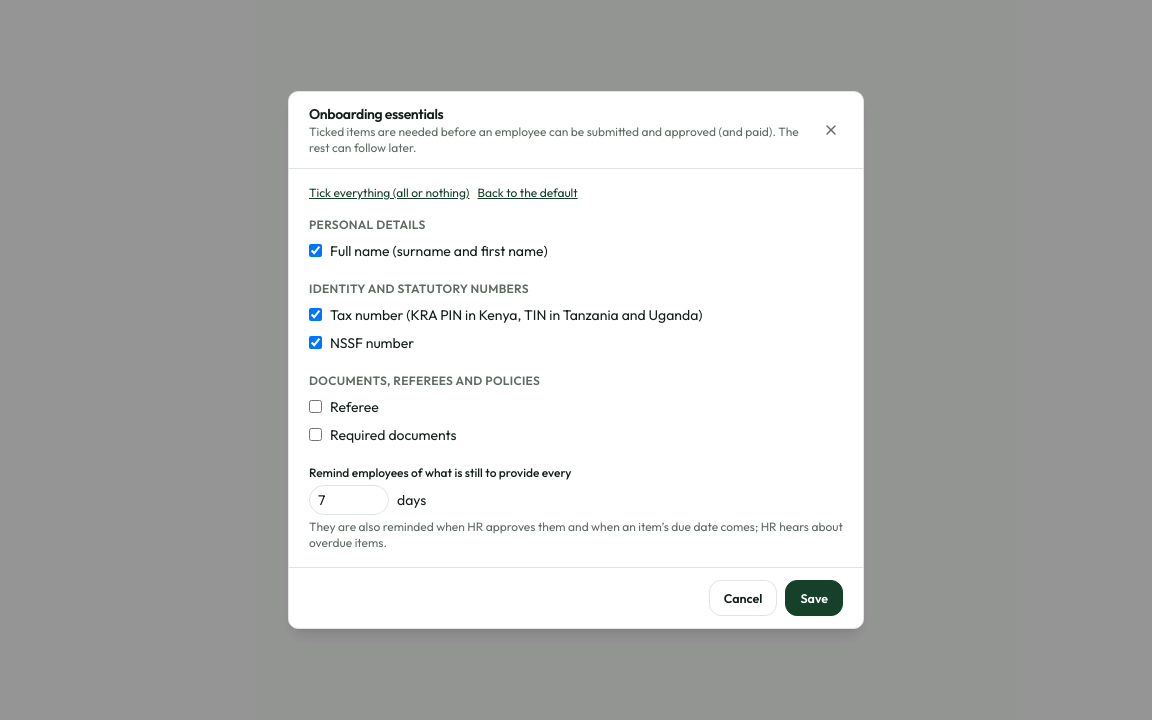
Test: OnboardingEssentialsModal › ticks everything for all or nothing, and goes back to the default
Click the button "Tick everything (all or nothing)" at (389, 193), box left=309, top=185, right=470, bottom=201
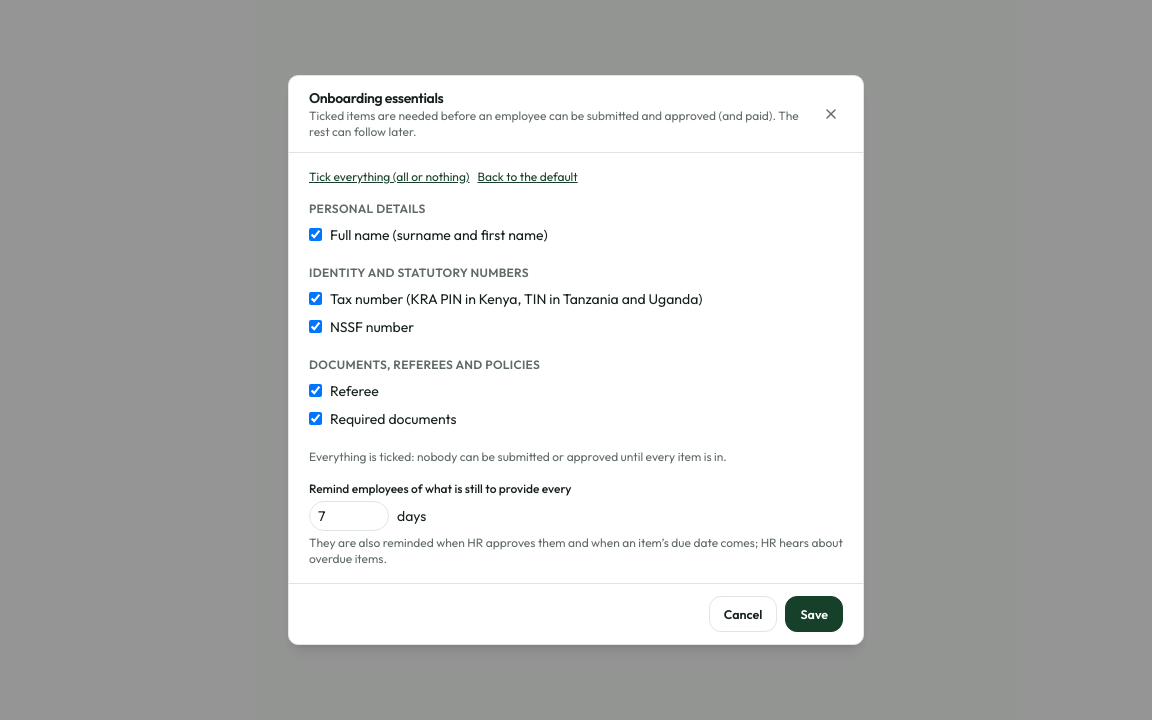
Now the text "Everything is ticked" is shown, box left=309, top=449, right=727, bottom=464
Click the button "Back to the default" at (528, 177), box left=478, top=169, right=578, bottom=185
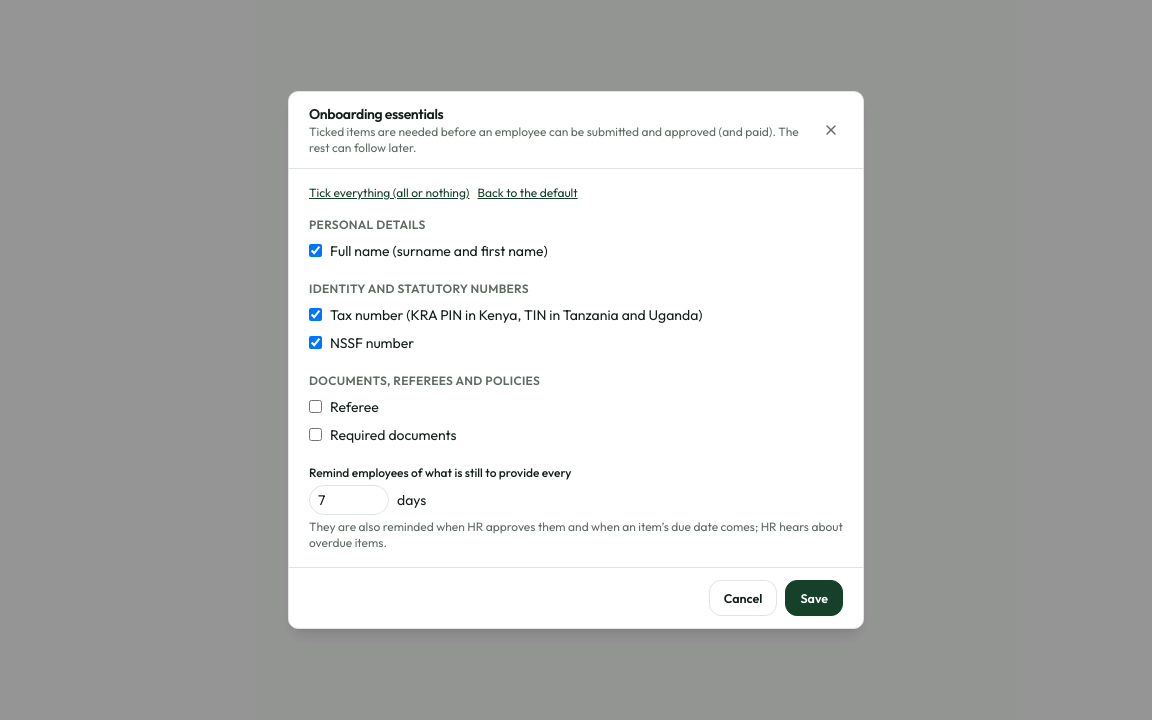
Expected: the checkbox labelled "NSSF number" is checked, left=309, top=336, right=322, bottom=349
Now the checkbox labelled "Referee" is not checked, box left=309, top=400, right=322, bottom=413
